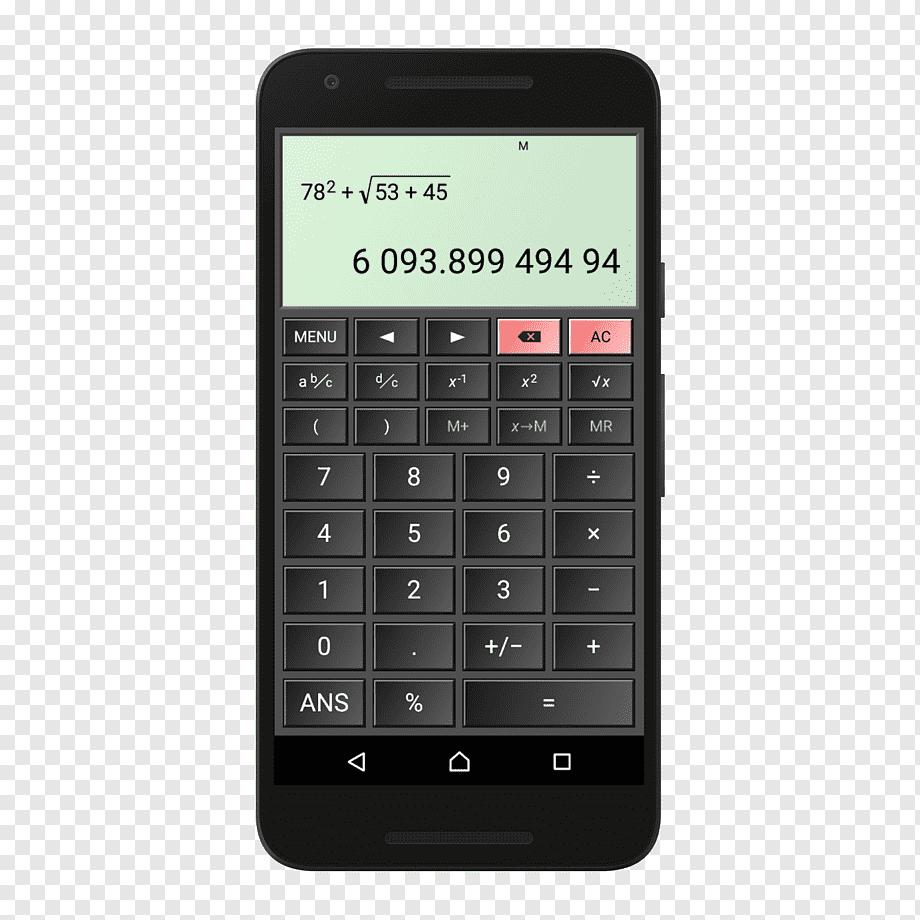Calculator: (271, 151, 653, 778)
